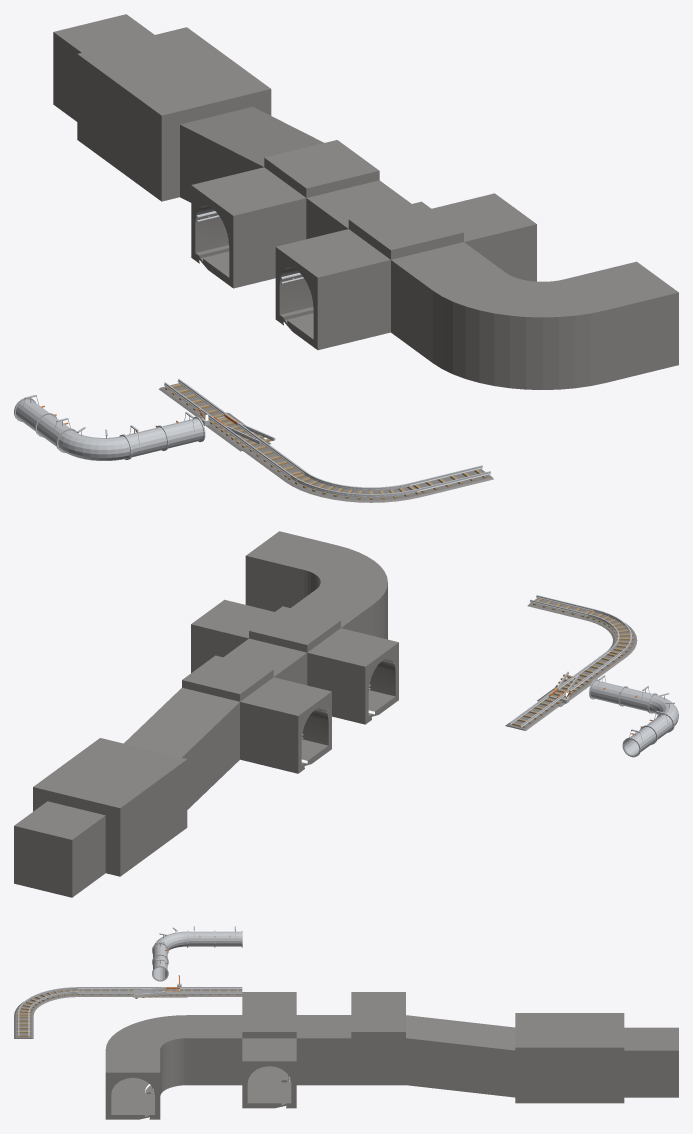
The model's file is underground-mine-and-shaft-works-mine-connector-cases-4816567e.glb.
The picture shows the model from 3 angles, top to bottom: view 1: azimuth 30°, elevation 25°; view 2: azimuth 150°, elevation 25°; view 3: azimuth 270°, elevation 25°; orthographic projection. The views are drawn at different scales.
Parts seen in each view (by area): view 1: 007-drift-widened-chamber/0, 001-drift-curve-right/0, 017-drift-straight-4m/0, 019-drift-straight-4m/0, 002-drift-straight-4m/0, 006-drift-incline-ramp/0, 000-drift-straight-4m/0, 018-drift-straight-4m/0, 005-drift-tee-junction/0, 003-drift-cross-junction/0, 008-drift-dead-end-face/0, 004-drift-straight-4m/0 (+5 smaller); view 2: 007-drift-widened-chamber/0, 008-drift-dead-end-face/0, 019-drift-straight-4m/0, 006-drift-incline-ramp/0, 017-drift-straight-4m/0, 002-drift-straight-4m/0, 001-drift-curve-right/0, 018-drift-straight-4m/0, 003-drift-cross-junction/0, 005-drift-tee-junction/0, 004-drift-straight-4m/0, 000-drift-straight-4m/0 (+4 smaller); view 3: 007-drift-widened-chamber/0, 006-drift-incline-ramp/0, 005-drift-tee-junction/0, 000-drift-straight-4m/0, 004-drift-straight-4m/0, 008-drift-dead-end-face/0, 001-drift-curve-right/0, 002-drift-straight-4m/0, 018-drift-straight-4m/0, 003-drift-cross-junction/0, 017-drift-straight-4m/0, 019-drift-straight-4m/0 (+12 smaller).
Boxes of the visible parts, x1,y1,x2,y2 form: 007-drift-widened-chamber/0: (77, 27, 271, 201); 001-drift-curve-right/0: (433, 273, 605, 389); 017-drift-straight-4m/0: (275, 229, 390, 350); 019-drift-straight-4m/0: (191, 167, 306, 288); 002-drift-straight-4m/0: (564, 261, 678, 382); 006-drift-incline-ramp/0: (180, 107, 323, 202); 000-drift-straight-4m/0: (391, 242, 505, 362); 018-drift-straight-4m/0: (432, 193, 536, 281); 005-drift-tee-junction/0: (264, 140, 379, 197); 003-drift-cross-junction/0: (348, 201, 463, 259); 008-drift-dead-end-face/0: (53, 14, 154, 121); 004-drift-straight-4m/0: (306, 180, 411, 239); 007-drift-widened-chamber/0: (33, 738, 187, 876); 008-drift-dead-end-face/0: (14, 801, 105, 897); 019-drift-straight-4m/0: (240, 677, 331, 773); 006-drift-incline-ramp/0: (124, 687, 239, 809); 017-drift-straight-4m/0: (307, 628, 398, 724); 002-drift-straight-4m/0: (245, 531, 336, 611); 001-drift-curve-right/0: (304, 545, 387, 639); 018-drift-straight-4m/0: (191, 599, 274, 672); 003-drift-cross-junction/0: (249, 606, 340, 652); 005-drift-tee-junction/0: (182, 655, 273, 701); 004-drift-straight-4m/0: (224, 638, 307, 685); 000-drift-straight-4m/0: (291, 589, 374, 635); 007-drift-widened-chamber/0: (515, 1013, 624, 1103); 006-drift-incline-ramp/0: (406, 1015, 515, 1097); 005-drift-tee-junction/0: (351, 1009, 405, 1085); 000-drift-straight-4m/0: (187, 1015, 242, 1085); 004-drift-straight-4m/0: (296, 1015, 351, 1085); 008-drift-dead-end-face/0: (624, 1027, 678, 1097); 001-drift-curve-right/0: (105, 1015, 187, 1095); 002-drift-straight-4m/0: (105, 1049, 160, 1119); 018-drift-straight-4m/0: (242, 1038, 296, 1108); 003-drift-cross-junction/0: (242, 1009, 296, 1082); 017-drift-straight-4m/0: (242, 992, 296, 1008); 019-drift-straight-4m/0: (351, 992, 405, 1008).
Bounding box in the file's own units: 30.61 × 5.3 × 48.72.
